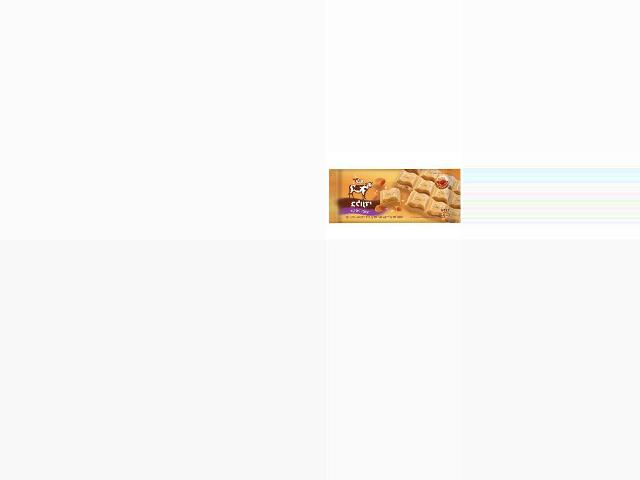chocolate: (324, 169, 460, 227)
